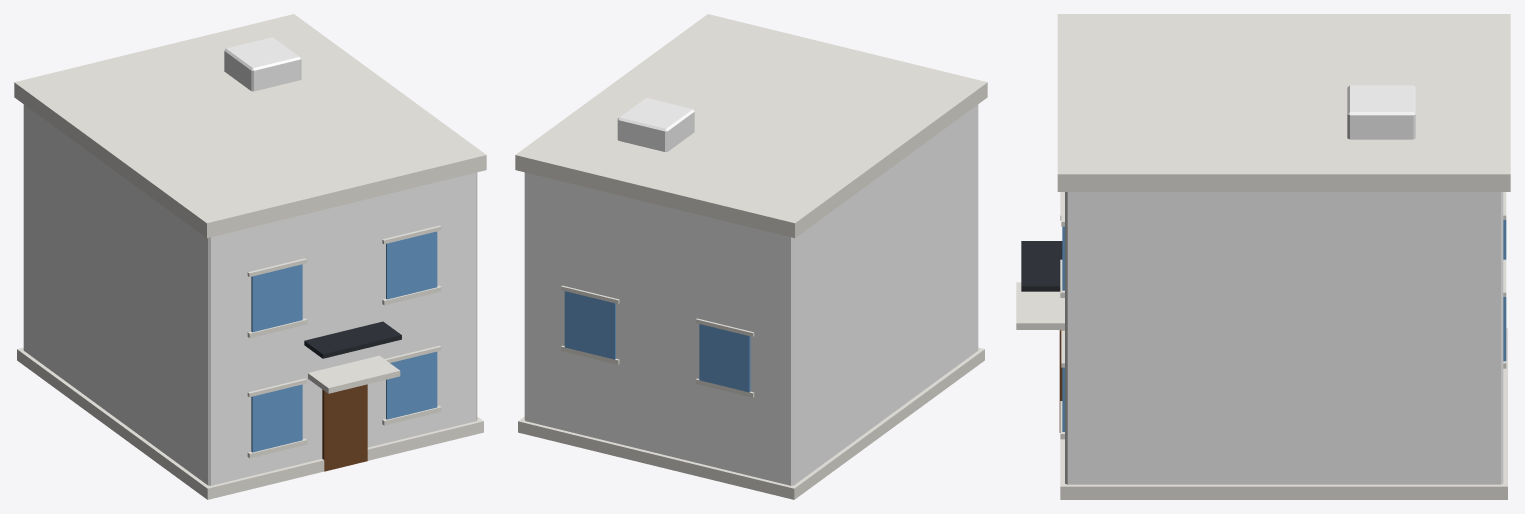
File: house_c.glb
The picture shows the model from 3 angles, left to right: view 1: azimuth 30°, elevation 25°; view 2: azimuth 150°, elevation 25°; view 3: azimuth 270°, elevation 25°; orthographic projection. The views are drawn at different scales.
Parts seen in each view (by area): view 1: house_walls, house_roof; view 2: house_walls, house_roof; view 3: house_walls, house_roof.
Boxes of the visible parts, x1,y1,x2,y2 form: house_walls: (14,14,486,499); house_roof: (224,37,301,91); house_walls: (515,14,987,499); house_roof: (617,98,694,151); house_walls: (1016,14,1510,499); house_roof: (1347,85,1415,139).
Bounding box in the file's own units: 7.8 × 8 × 10.15.
